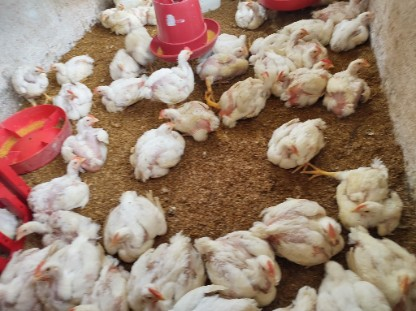Pollos: (200, 227, 283, 299), (348, 216, 416, 301), (265, 194, 346, 265), (127, 239, 204, 311), (101, 183, 167, 261), (332, 161, 405, 227), (33, 239, 101, 299), (264, 117, 333, 176), (127, 117, 186, 185), (28, 153, 89, 217), (207, 72, 268, 131), (322, 261, 393, 311), (146, 45, 200, 105), (326, 58, 378, 118), (157, 99, 221, 144), (62, 114, 115, 166), (329, 7, 382, 54), (278, 65, 332, 109), (8, 54, 49, 106), (12, 212, 74, 246), (199, 43, 249, 85), (91, 82, 152, 116), (45, 45, 98, 83), (121, 15, 163, 61), (52, 80, 92, 123), (105, 43, 140, 80), (297, 13, 334, 45), (268, 25, 304, 54), (234, 0, 269, 28), (306, 39, 322, 63), (312, 61, 336, 75), (345, 0, 364, 12), (114, 2, 127, 12)
